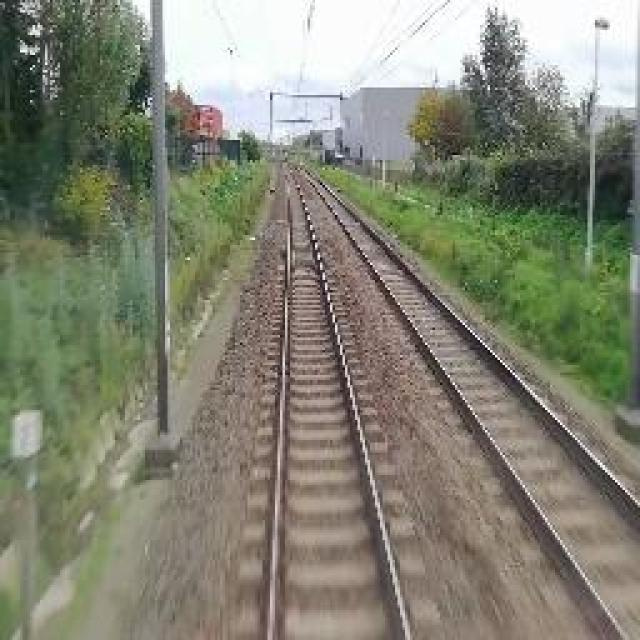rail: (231, 153, 448, 640)
